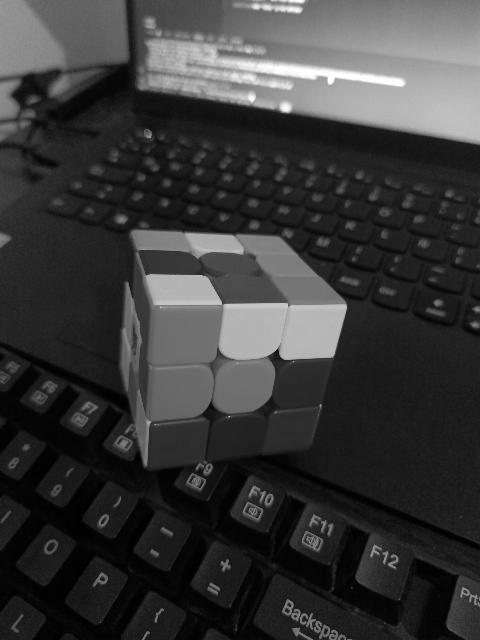rubik: (118, 227, 348, 469)
